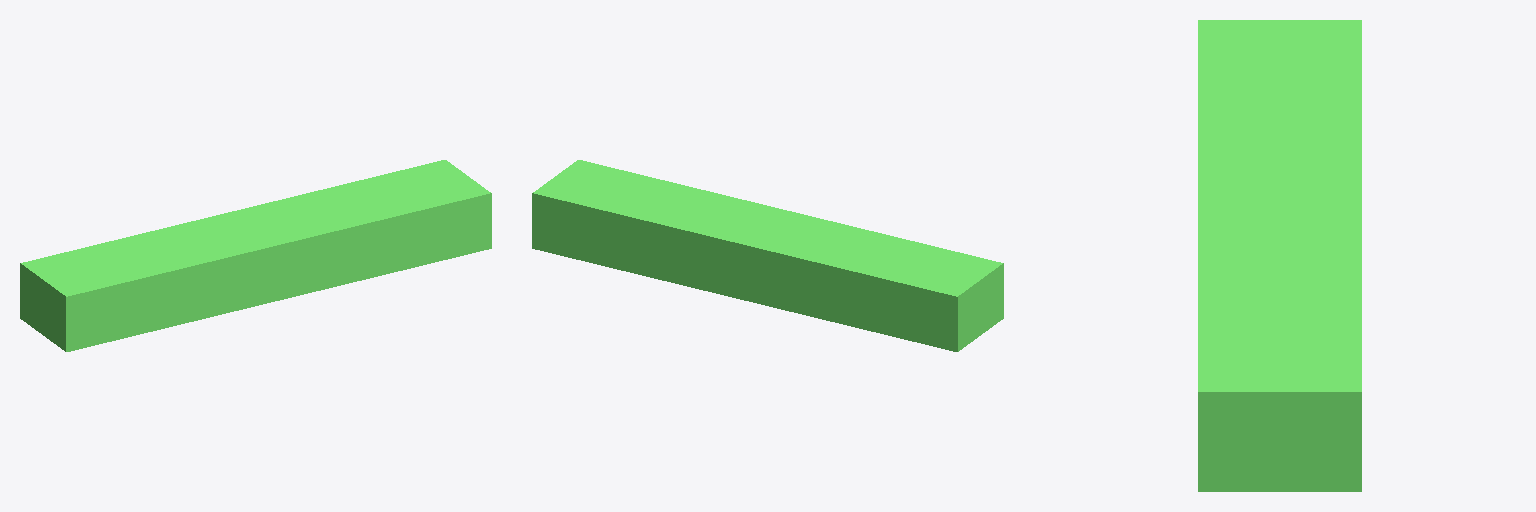
URDF robot description (hit_ball_with_queue_pocket1):
<?xml version="1.0"?>
<robot name="hit_ball_with_queue_pocket1">
    <link name="robot_base">
        <inertial>
            <origin rpy="0.000000 0.000000 0.000000" xyz="0.324997 0.192750 0.752999" />
            <inertia iyy="0.0010572118600667" iyz="1.5656470670435e-11" ixx="0.00078661598519292" izz="3.3149268293965e-07" ixz="-5.8811612722704e-12" ixy="-3.9376787719559e-14" />
            <mass value="0.067200005054474" />
        </inertial>
        <collision name="hit_ball_with_queue_pocket1">
            <origin xyz="0.324997 0.192750 0.752999" rpy="-3.141570 3.141618 1.570786" />
            <geometry>
                <box size="0.007500 0.040000 0.005000" />
            </geometry>
        </collision>
        <visual name="hit_ball_with_queue_pocket1">
            <origin xyz="0.324997 0.192750 0.752999" rpy="-3.141570 3.141618 1.570786" />
            <geometry>
                <box size="0.007500 0.040000 0.005000" />
            </geometry>
            <material name="robot_base_material">
                <color rgba="0.540000 1.000000 0.510000 1.0" />
            </material>
        </visual>
    </link>
</robot>

--- What the picture shows (computed from the rendered views, not written in the file) ---
3 views of the same robot in one strip: view 1: azimuth 30°, elevation 25°; view 2: azimuth 150°, elevation 25°; view 3: azimuth 270°, elevation 25° (orthographic).
Model hit_ball_with_queue_pocket1 with 1 links and 0 joints (none), rooted at robot_base, posed every joint at zero.
Visible links, largest first — view 1: robot_base; view 2: robot_base; view 3: robot_base.
Link boxes in pixels (bbox=[...]): robot_base: bbox=[20, 160, 491, 351]; robot_base: bbox=[532, 160, 1003, 351]; robot_base: bbox=[1198, 20, 1361, 491].
Bounding box of the posed robot: 0.04 × 0.0075 × 0.005 m (x, y, z).
Geometry: primitives only (box / cylinder / sphere), no mesh files.
